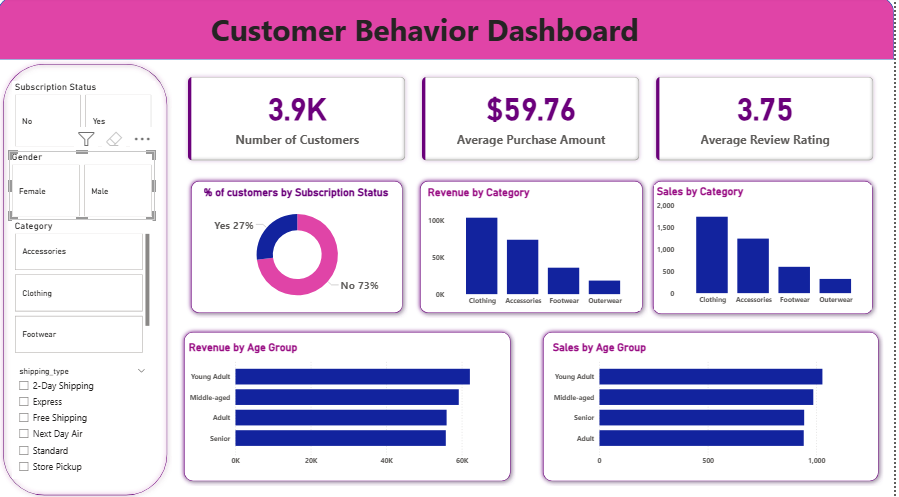

The page's visual inventory and layout, read from the dashboard file:
{"tool":"powerbi","page":{"name":"Page 1","canvas":[1599,893],"ordinal":0},"visuals":[{"type":"cardVisual","fields":{"Data":["public customer.Number of Customers","public customer.Average Purchase Amount","public customer.Average Review Rating"]},"box":[324,126,1258.2,181.8],"z":0},{"type":"shape","box":[0,0,1600.2,111.6],"z":1000},{"type":"textbox","box":[0,16.2,1524.6,95.4],"z":2000},{"type":"shape","box":[336.6,320.4,396,253.8],"z":3000},{"type":"donutChart","title":"% of customers by Subscription Status","fields":{"Category":["public customer.subscription_status"],"Y":["CountNonNull(public customer.customer_id)"]},"box":[361.8,338.4,343.8,223.2],"z":4000},{"type":"shape","box":[745.2,320.4,415.8,253.8],"z":5000},{"type":"shape","box":[1161,320.4,410.4,255.6],"z":6000},{"type":"clusteredColumnChart","title":"Revenue by Category","fields":{"Y":["Sum(public customer.purchase_amount)"],"Category":["public customer.category"]},"box":[763.2,338.4,385.2,223.2],"z":7000},{"type":"clusteredColumnChart","title":"Sales by Category","fields":{"Y":["CountNonNull(public customer.customer_id)"],"Category":["public customer.category"]},"box":[1171.8,336.6,388.8,223.2],"z":8000},{"type":"shape","box":[0,111.6,311.4,788.4],"z":9000},{"type":"advancedSlicerVisual","title":"Subscription Status","fields":{"Values":["public customer.subscription_status"]},"box":[25.2,149.4,255.6,122.4],"z":10000},{"type":"advancedSlicerVisual","title":"Gender","fields":{"Values":["public customer.gender"]},"box":[19.8,275.4,261,122.4],"z":11000},{"type":"advancedSlicerVisual","title":"Category","fields":{"Values":["public customer.category"]},"box":[25.2,397.8,251,244],"z":12000},{"type":"shape","box":[324,588.6,601.2,284.4],"z":12500},{"type":"slicer","fields":{"Values":["public customer.shipping_type"]},"box":[25.2,655.2,250.2,205.2],"z":13000},{"type":"clusteredBarChart","title":"Revenue by Age Group","fields":{"Y":["Sum(public customer.purchase_amount)"],"Category":["public customer.age_group"]},"box":[336.6,613.8,576,232.2],"z":14000},{"type":"shape","box":[964.8,588.6,617.4,284.4],"z":16000},{"type":"clusteredBarChart","title":"Sales by Age Group","fields":{"Y":["CountNonNull(public customer.customer_id)"],"Category":["public customer.age_group"]},"box":[986.4,613.8,574.2,232.2],"z":17000}]}

Visuals, with their boxes in screenshot pixels (x1, y1, x2, y2), scaled from the page's 1599x893 canvas onto the 899x497 screenshot:
cardVisual - public customer.Number of Customers x public customer.Average Purchase Amount: box(182, 70, 890, 171)
shape: box(0, 0, 898, 62)
textbox: box(0, 9, 857, 62)
shape: box(189, 178, 412, 320)
"% of customers by Subscription Status" donutChart: box(203, 188, 397, 313)
shape: box(419, 178, 653, 320)
shape: box(653, 178, 883, 321)
"Revenue by Category" clusteredColumnChart: box(429, 188, 646, 313)
"Sales by Category" clusteredColumnChart: box(659, 187, 877, 312)
shape: box(0, 62, 175, 496)
"Subscription Status" advancedSlicerVisual: box(14, 83, 158, 151)
"Gender" advancedSlicerVisual: box(11, 153, 158, 221)
"Category" advancedSlicerVisual: box(14, 221, 155, 357)
shape: box(182, 328, 520, 486)
slicer - public customer.shipping_type: box(14, 365, 155, 479)
"Revenue by Age Group" clusteredBarChart: box(189, 342, 513, 471)
shape: box(542, 328, 890, 486)
"Sales by Age Group" clusteredBarChart: box(555, 342, 877, 471)
